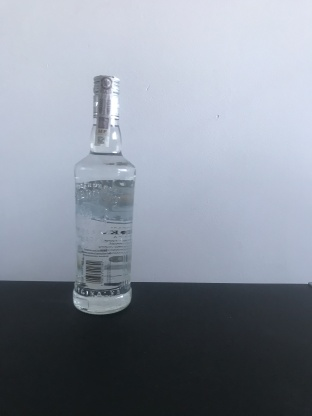nakretka: (90, 70, 122, 121)
